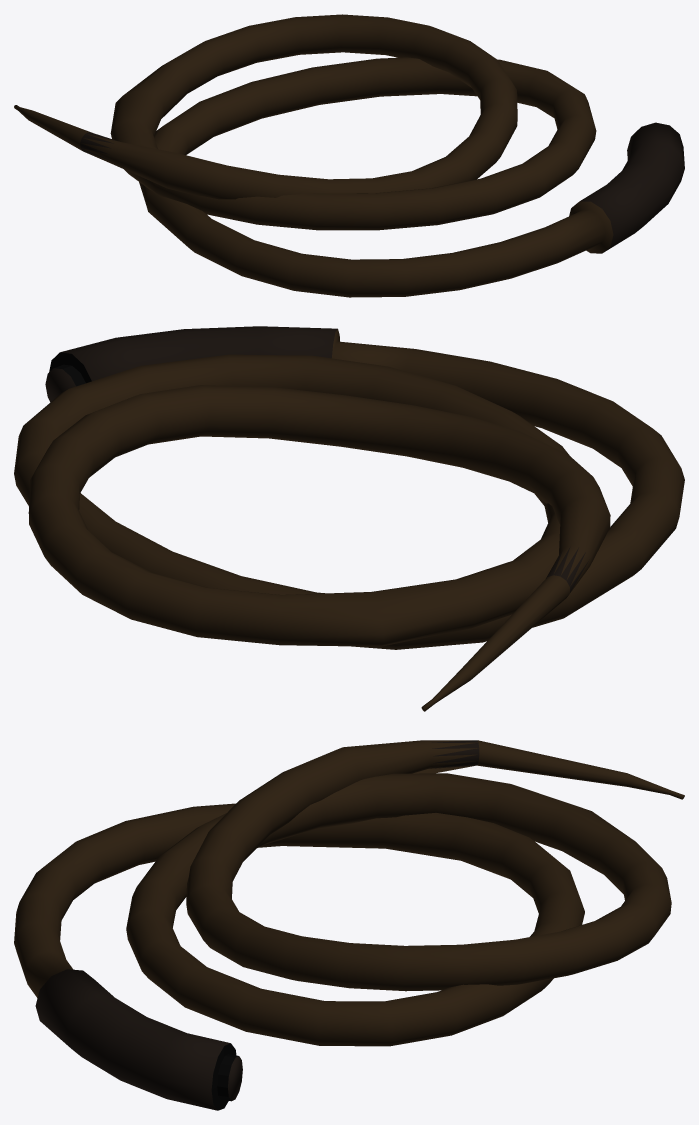
File: Whip.glb
3 renders of one model, top to bottom at view 1: azimuth 30°, elevation 25°; view 2: azimuth 150°, elevation 25°; view 3: azimuth 270°, elevation 25°, orthographic. The views are drawn at different scales.
Parts seen in each view (by area): view 1: Rope_2; view 2: Rope_2; view 3: Rope_2.
Part boxes in pixels (x1,y1,x2,y2): Rope_2: [14, 14, 684, 297]; Rope_2: [14, 326, 684, 711]; Rope_2: [14, 740, 684, 1110].
Size of the model in its own units: 0.7976 by 0.1348 by 0.7759.
Materials: 1 (1 with a texture image).
